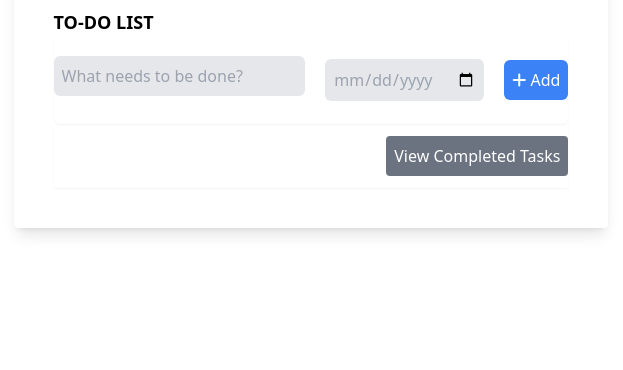
Test: Main Page › can remove a todo
The image size is (623, 370).
In the field with test id "todo-text": (180, 76) [54,56,306,96], type "Todo Item to remove"
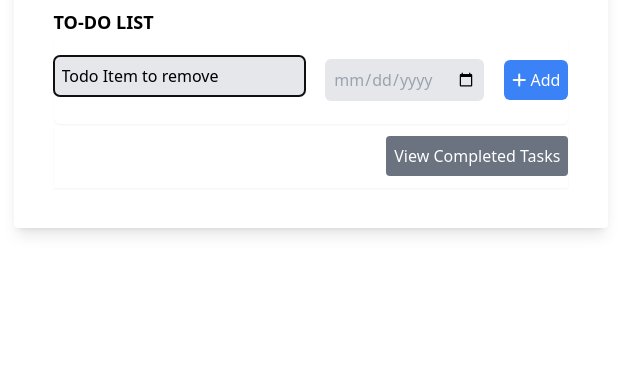
In the date field with test id "date": (405, 80) [325,59,484,101], type "2024-12-31"
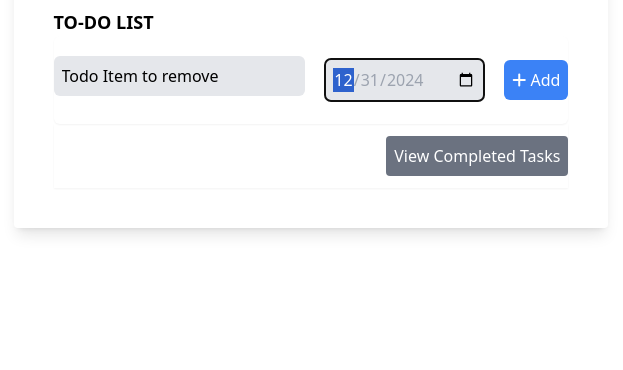
Click the button with test id "add": click(536, 80) [504,60,568,100]
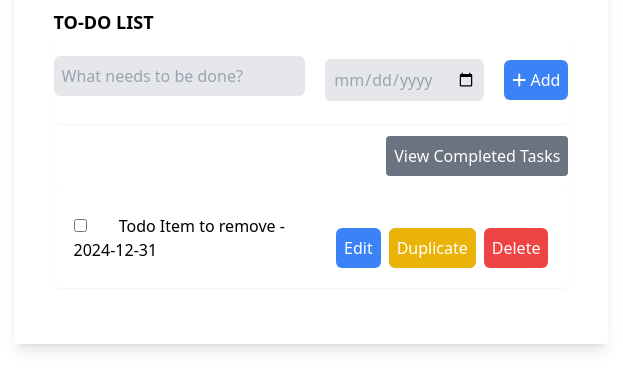
Click the button with test id "delete": click(517, 248) [484,228,549,268]
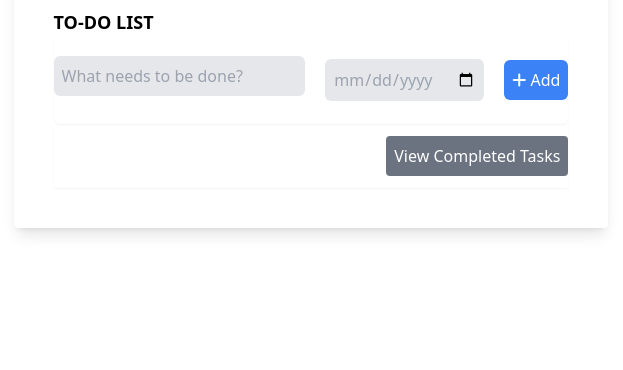
Now the text "Todo Item to remove" is gone
